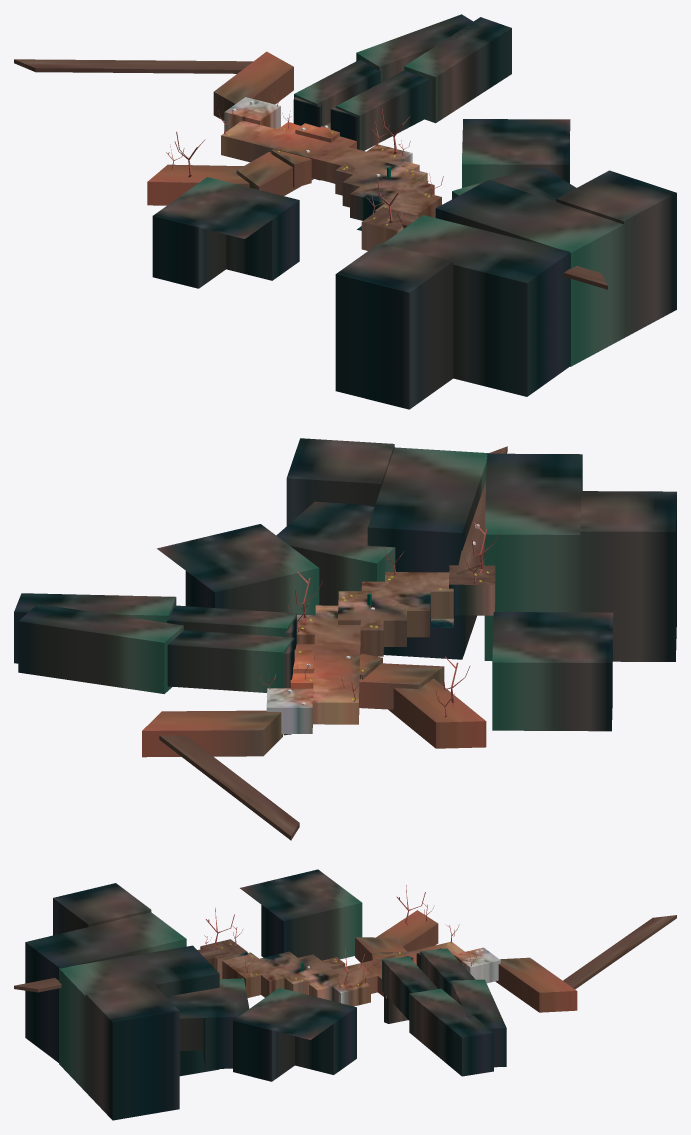
Rendered from simple-1.gltf.
The picture shows the model from 3 angles, top to bottom: view 1: azimuth 30°, elevation 25°; view 2: azimuth 150°, elevation 25°; view 3: azimuth 270°, elevation 25°; orthographic projection. The views are drawn at different scales.
Parts seen in each view (by area): view 1: Plane.006; view 2: Plane.006; view 3: Plane.006.
Part boxes in pixels (<box>): Plane.006: <box>14,14,676,409</box>; Plane.006: <box>14,438,676,840</box>; Plane.006: <box>14,869,676,1120</box>.
Size of the model in its own units: 355 by 104 by 546.
3 materials, 1 textured.
